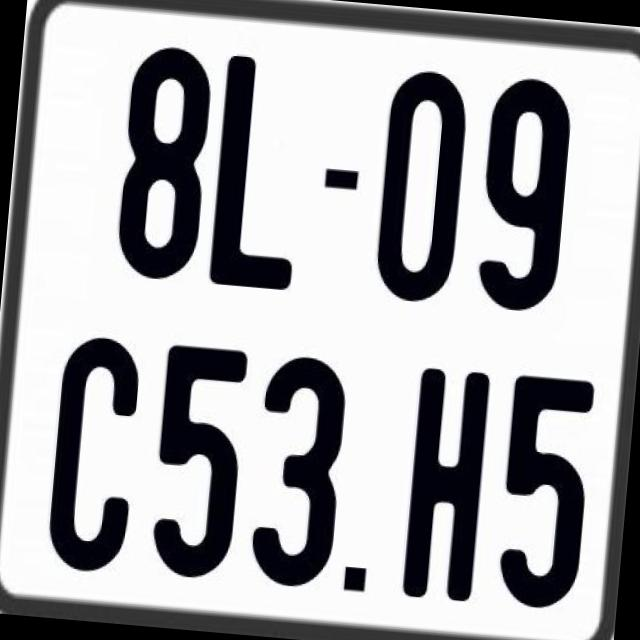0: (368, 65, 466, 308)
3: (248, 349, 354, 590)
5: (146, 338, 252, 582), (491, 372, 597, 616)
8: (113, 40, 221, 282)
9: (472, 73, 580, 314)
C: (44, 335, 143, 584)
H: (402, 364, 498, 607)
L: (206, 50, 314, 292)
